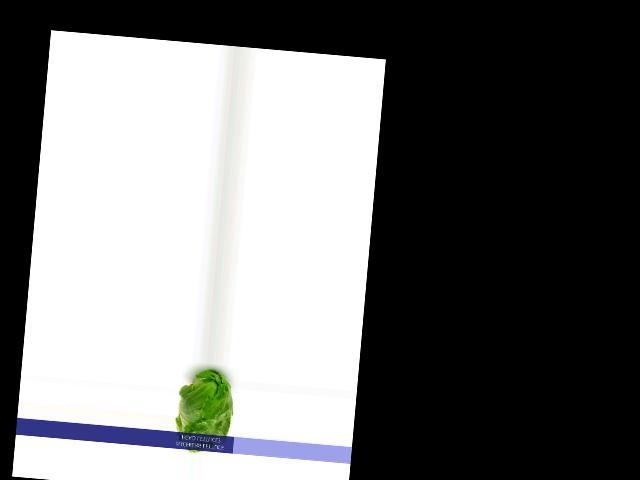lettuce: (173, 363, 234, 455)
